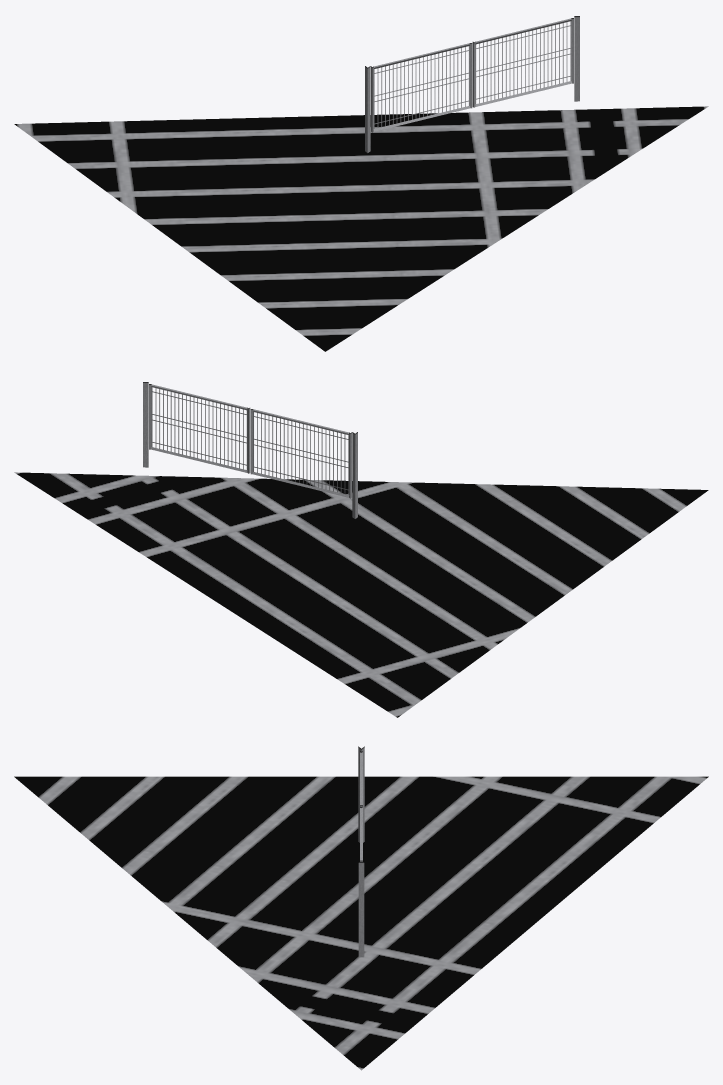
The model's file is fence-mesh-grey-gateX2-2m-cbj_LOD02.gltf.
The picture shows the model from 3 angles, top to bottom: view 1: azimuth 30°, elevation 25°; view 2: azimuth 150°, elevation 25°; view 3: azimuth 270°, elevation 25°; orthographic projection. The views are drawn at different scales.
Visible parts, largest first — view 1: post.004; view 2: post.004; view 3: post.004.
Boxes of the visible parts, x1=… form: post.004: x1=14, y1=16, x2=708, y2=351; post.004: x1=14, y1=382, x2=708, y2=717; post.004: x1=14, y1=746, x2=708, y2=1070.
Size of the model in its own units: 10.56 by 2.31 by 10.56.
